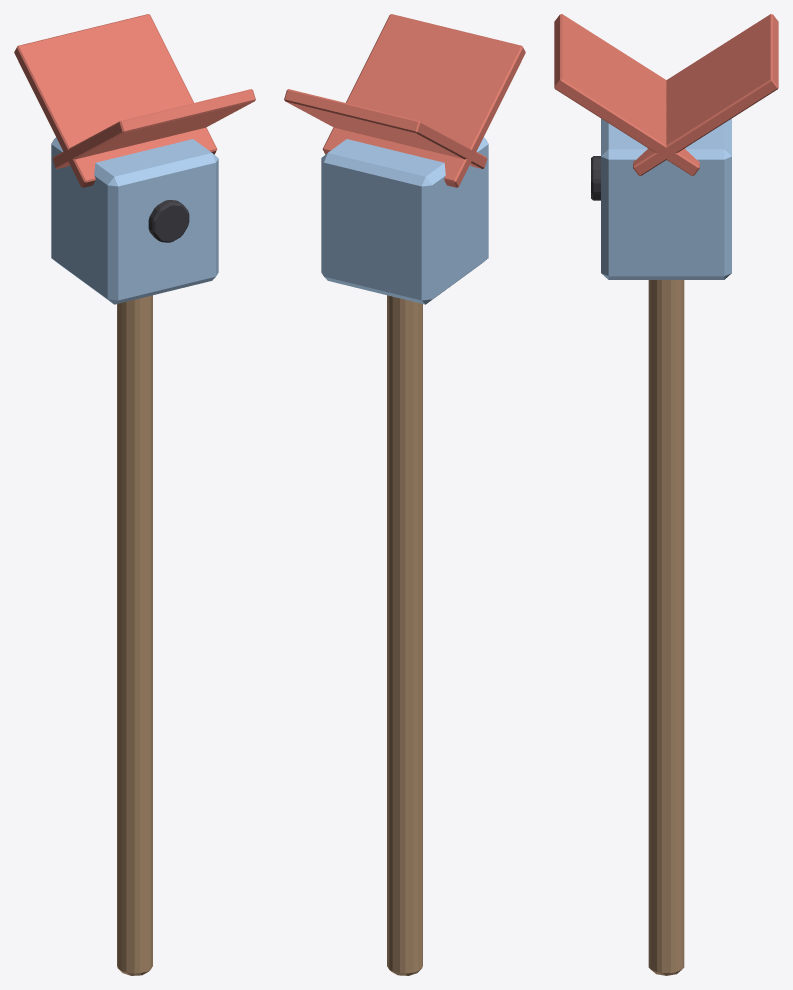
The picture shows the model from 3 angles, left to right: view 1: azimuth 30°, elevation 25°; view 2: azimuth 150°, elevation 25°; view 3: azimuth 270°, elevation 25°; orthographic projection. The views are drawn at different scales.
Parts seen in each view (by area): view 1: Birdhouse; view 2: Birdhouse; view 3: Birdhouse.
Boxes of the visible parts, box(x1,y1,x2,y2) form: Birdhouse: box(14, 14, 255, 975); Birdhouse: box(284, 14, 525, 975); Birdhouse: box(554, 14, 778, 975).
Size of the model in its own units: 0.24 by 1.55 by 0.3417.
